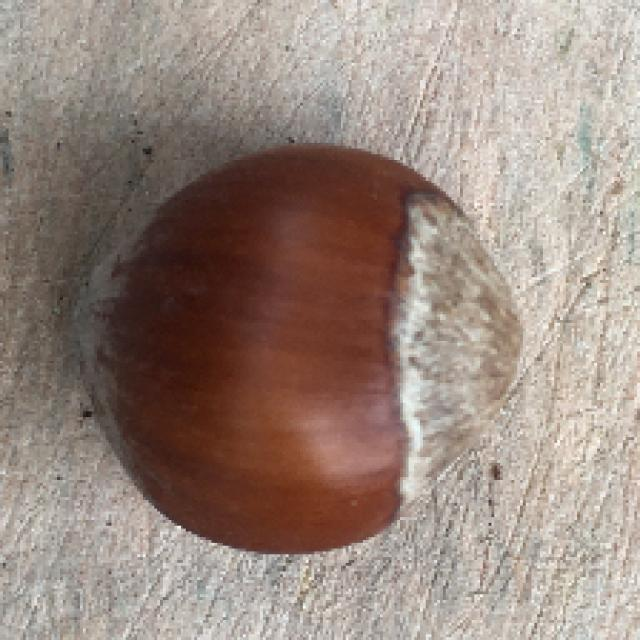qualityHazelnut: (70, 139, 526, 557)
